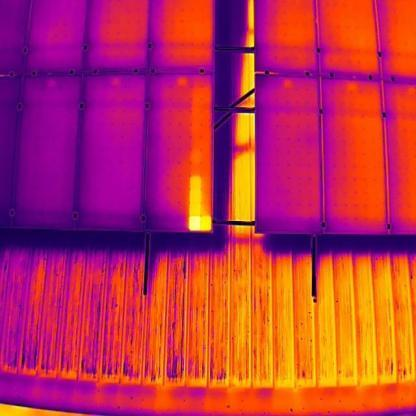anomaly: (186, 175, 215, 234)
